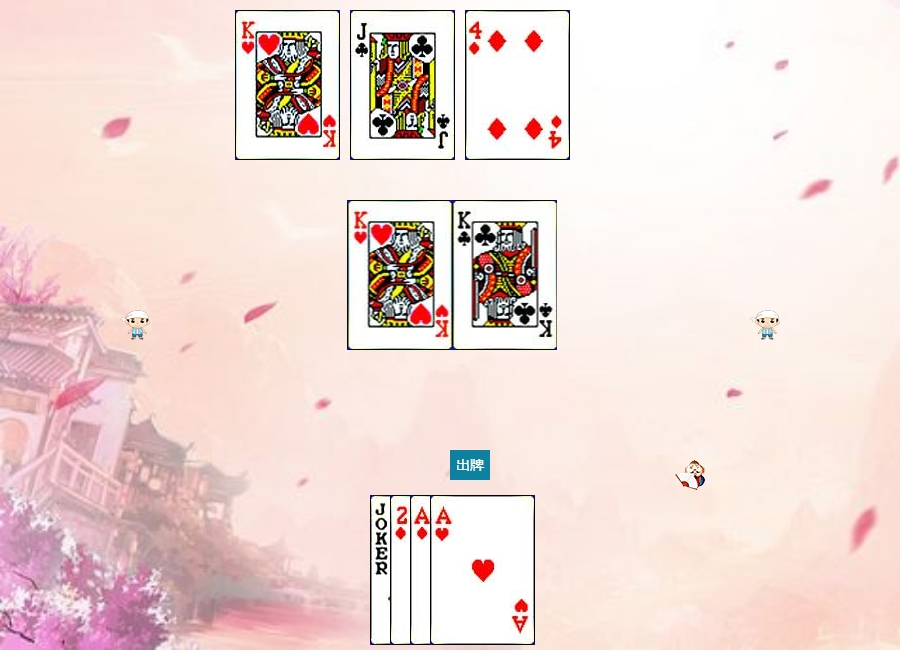11~2: (350, 10, 455, 160)
13~2: (453, 200, 558, 350)
13~3: (235, 10, 340, 160), (348, 200, 453, 350)
14~1: (410, 495, 515, 645)
14~3: (430, 495, 535, 645)
15~1: (390, 495, 495, 645)
17~3: (370, 495, 475, 645)
4~1: (465, 10, 570, 160)
